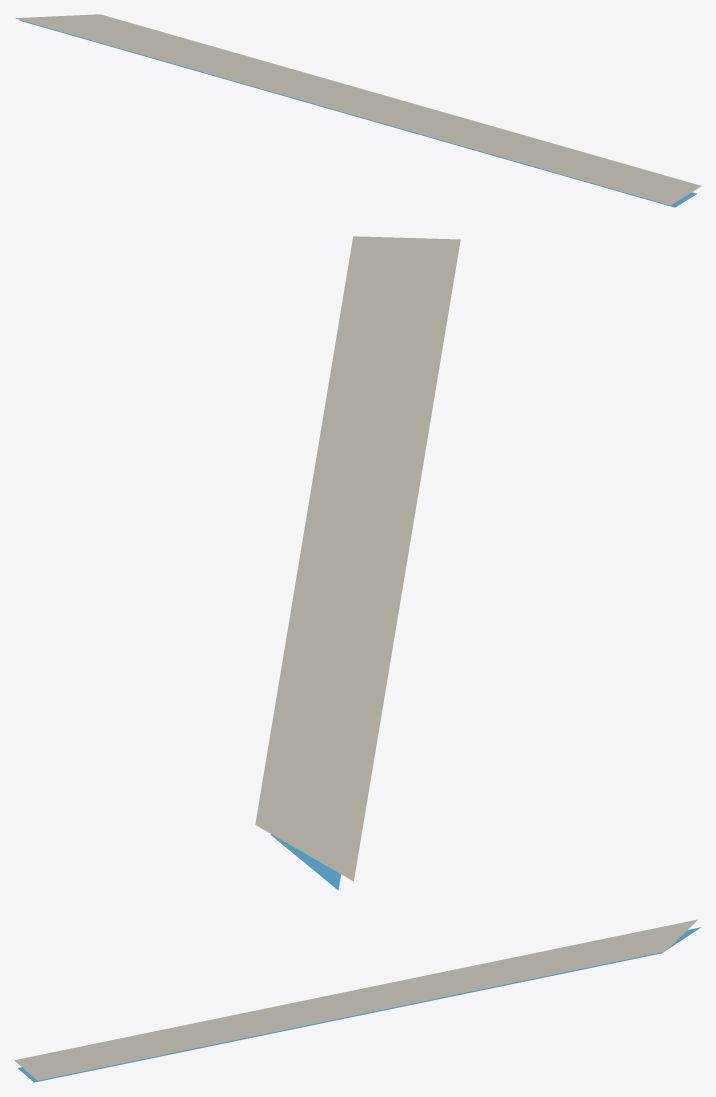
The picture shows the model from 3 angles, top to bottom: view 1: azimuth 30°, elevation 25°; view 2: azimuth 150°, elevation 25°; view 3: azimuth 270°, elevation 25°; orthographic projection. The views are drawn at different scales.
Parts seen in each view (by area): view 1: estructura_terreno, estructura_agua; view 2: estructura_terreno; view 3: estructura_terreno, estructura_agua.
Part boxes in pixels (bbox=[...]): estructura_terreno: bbox=[15, 14, 701, 205]; estructura_agua: bbox=[19, 20, 696, 207]; estructura_terreno: bbox=[255, 236, 460, 881]; estructura_terreno: bbox=[14, 919, 697, 1080]; estructura_agua: bbox=[18, 927, 701, 1082].
Size of the model in its own units: 29.77 by 0.41 by 53.62.
